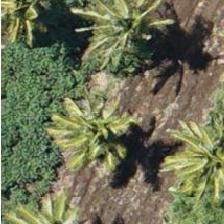coconut_tree: (49, 88, 139, 178), (80, 0, 170, 71), (172, 109, 223, 199), (0, 0, 74, 52)
